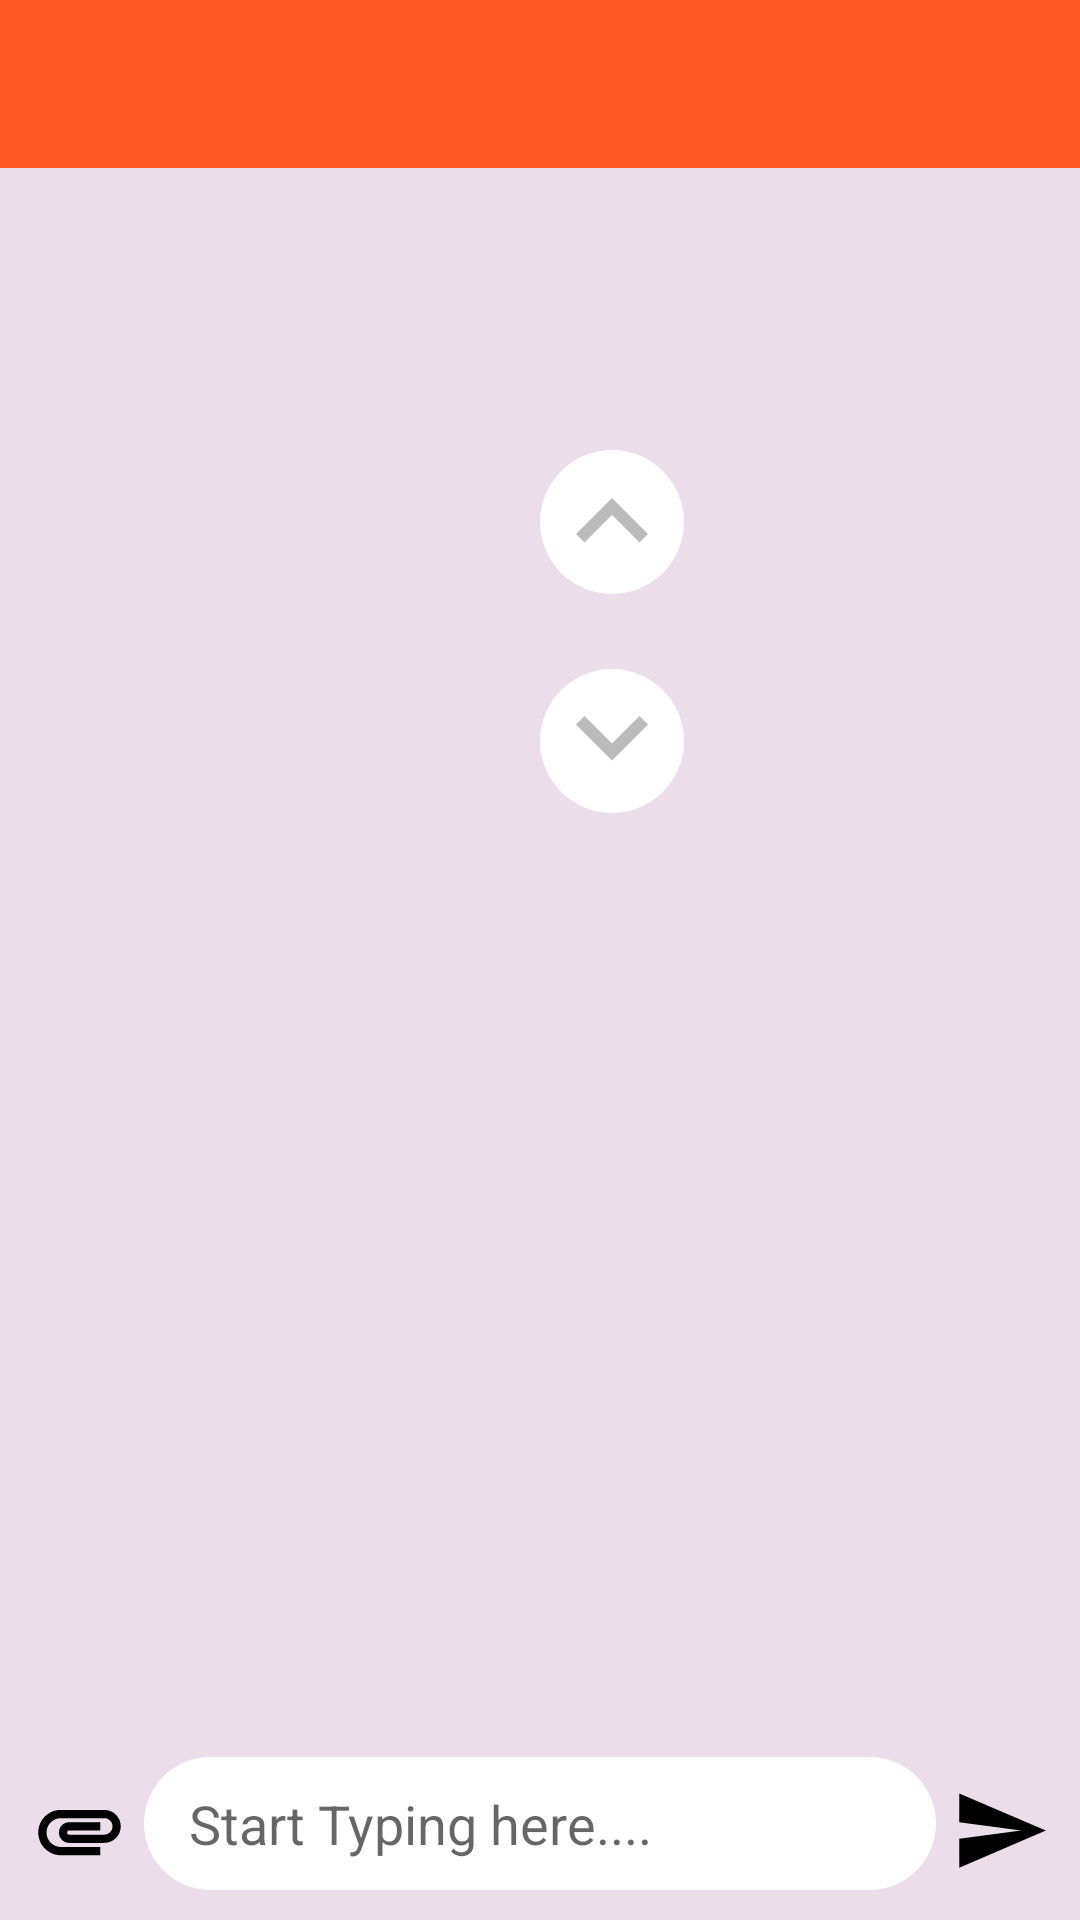

Where icons sit on this 1080 × 1920 app screen, as (x1, y1, x2, y2):
attachment: (38, 1810, 121, 1856)
keyboard arrow down: (540, 669, 684, 813)
keyboard arrow up: (540, 450, 684, 594)
send: (959, 1793, 1046, 1868)
